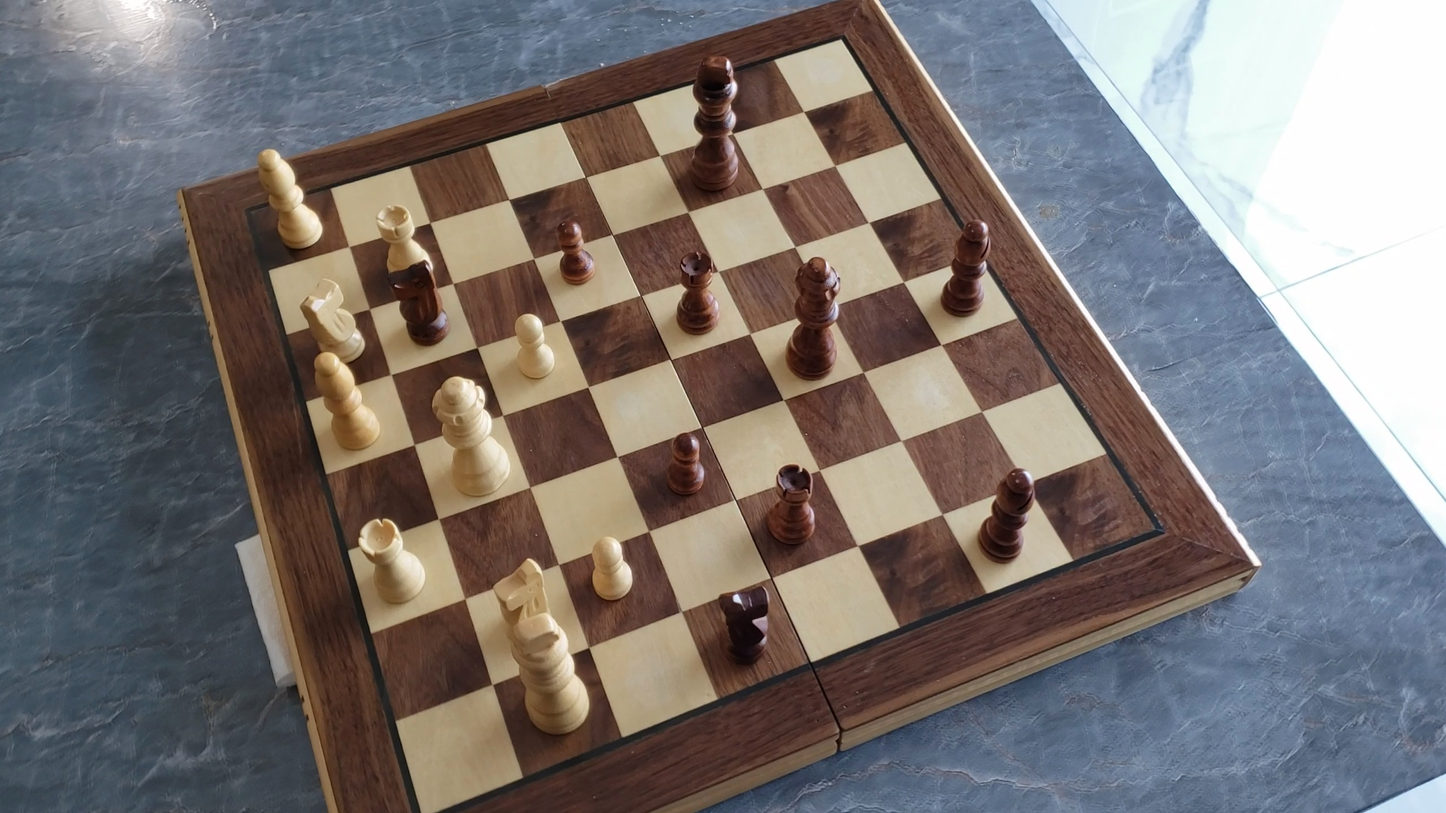black-bishop: (973, 465, 1036, 575), (938, 216, 994, 324)
black-king: (683, 48, 743, 194)
black-knight: (387, 258, 451, 347), (716, 585, 773, 667)
black-pawn: (555, 213, 598, 288), (664, 428, 708, 500)
black-queen: (785, 254, 846, 381)
black-rook: (764, 461, 817, 548), (673, 248, 720, 336)
white-bishop: (252, 144, 328, 255), (308, 351, 385, 454)
white-king: (499, 610, 596, 739)
white-knight: (298, 274, 368, 367), (485, 554, 554, 623)
white-pawn: (585, 531, 639, 605), (508, 308, 560, 384)
white-queen: (427, 373, 515, 501)
white-rook: (355, 514, 430, 609), (373, 199, 432, 280)
